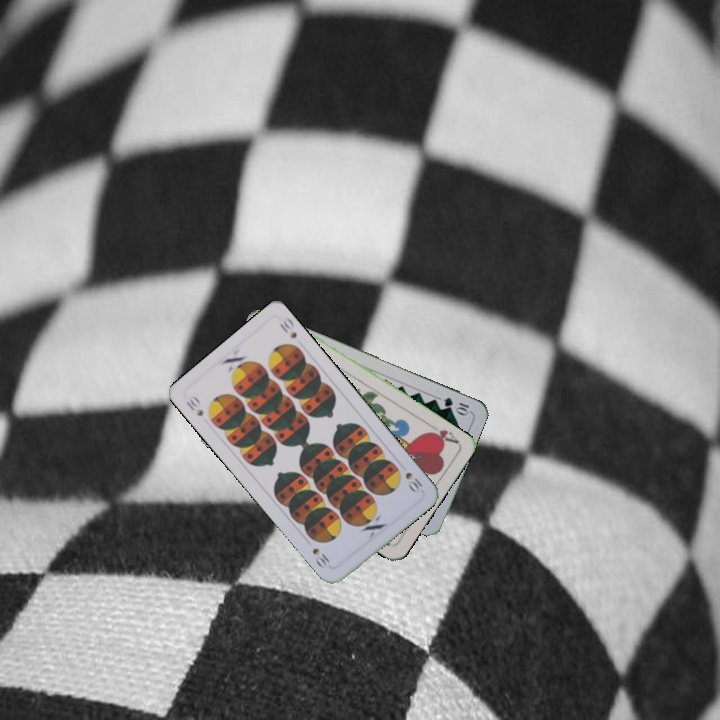G10: (440, 393, 472, 417)
HA: (424, 420, 461, 446)
S10: (401, 468, 425, 496), (182, 391, 206, 419)
